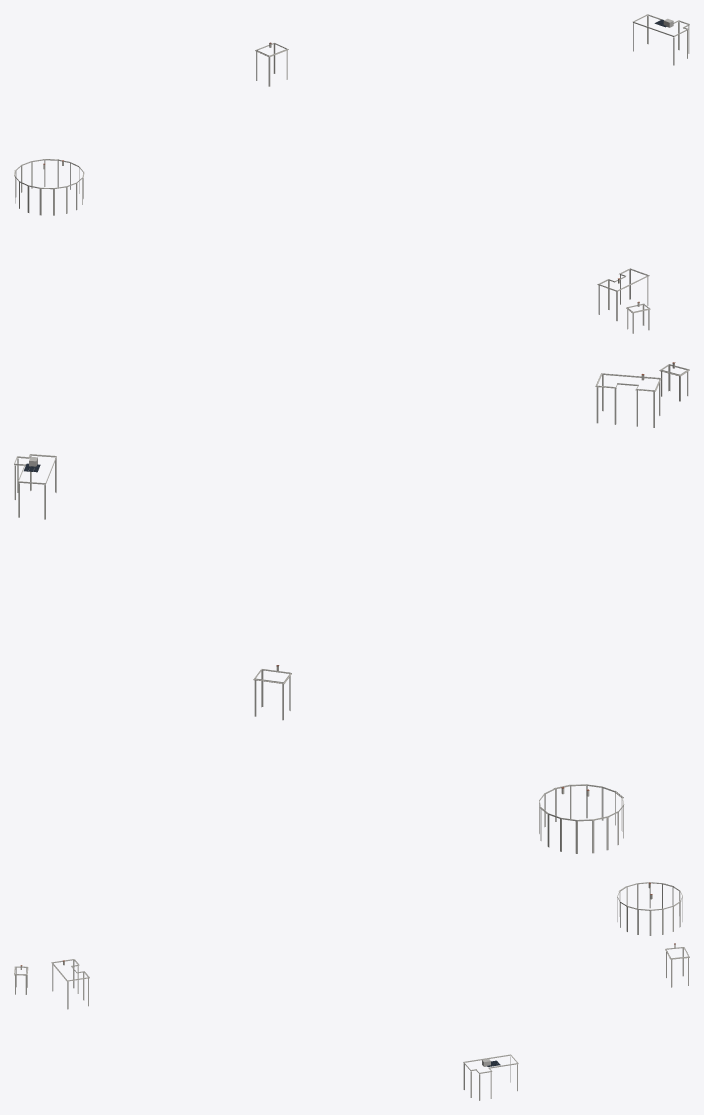
3 renders of one model, top to bottom at view 1: azimuth 30°, elevation 25°; view 2: azimuth 150°, elevation 25°; view 3: azimuth 270°, elevation 25°, orthographic. The views are drawn at different scales.
Parts seen in each view (by area): view 1: detail; view 2: detail; view 3: detail.
Boxes of the visible parts, x1,y1,x2,y2 form: detail: (14,14,689,333); detail: (14,362,689,853); detail: (14,882,689,1100).
Bounding box in the file's own units: 307 × 57.56 × 328.
